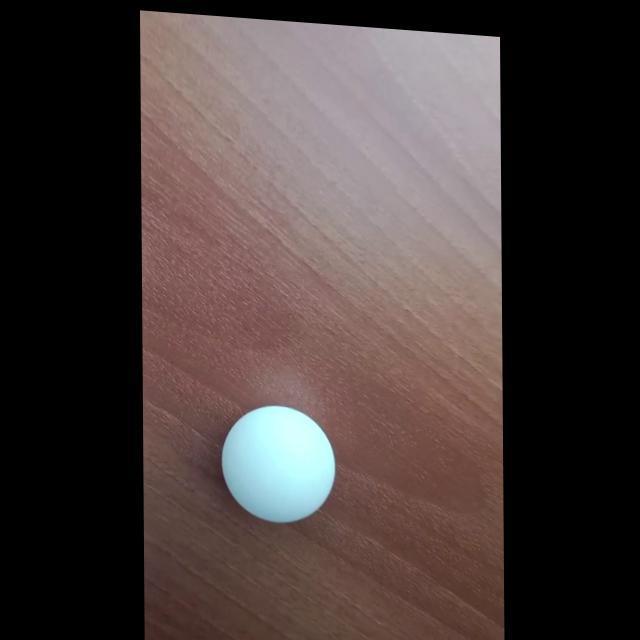white ball: (220, 401, 336, 528)
